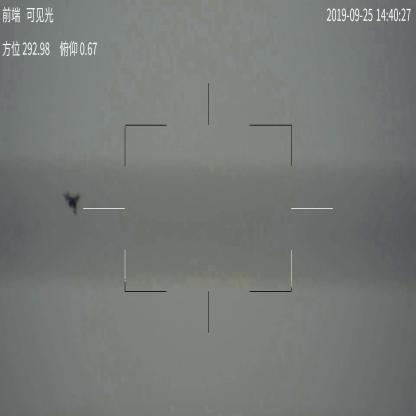uav: (63, 191, 82, 215)
